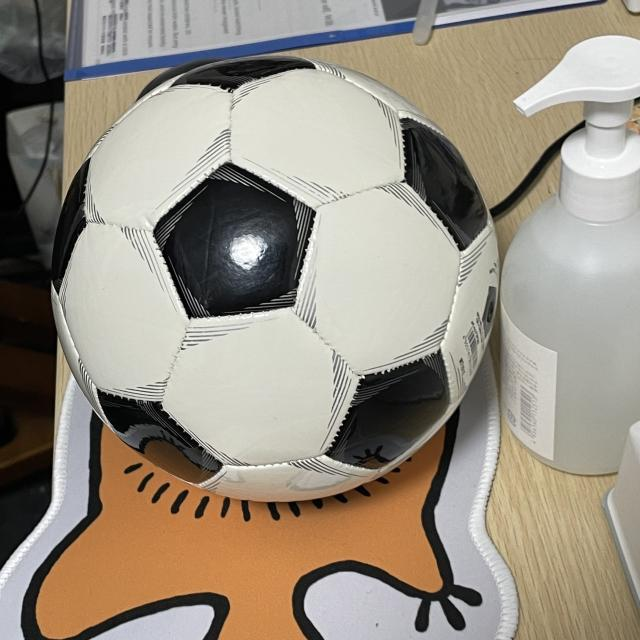ball: (48, 56, 501, 504)
